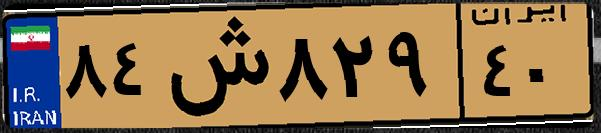0: (525, 38, 570, 115)
2: (330, 28, 385, 110)
4: (475, 38, 525, 113), (110, 28, 158, 98)
8: (270, 28, 330, 110), (57, 26, 110, 100)
9: (385, 28, 445, 110)
ش: (158, 12, 270, 120)
